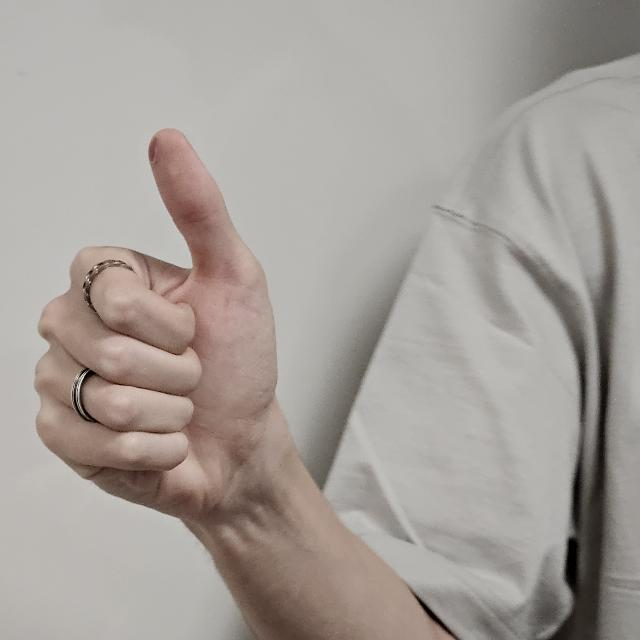Start: (22, 124, 294, 542)
